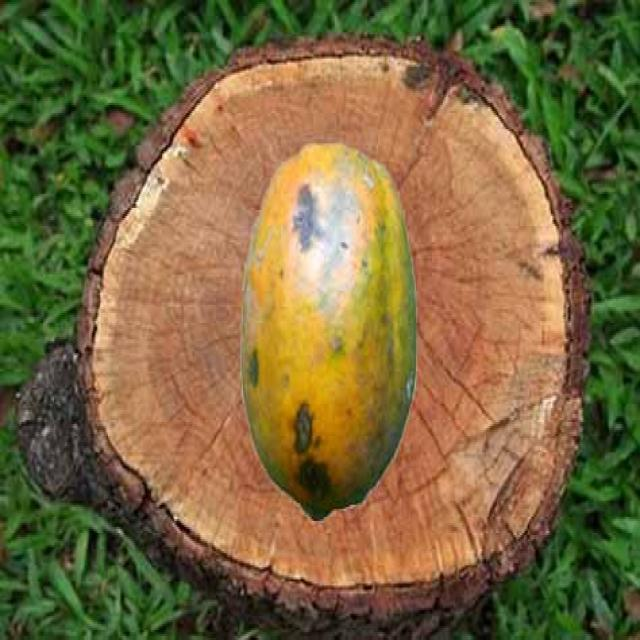Pepaya rippen: (238, 139, 420, 525)
